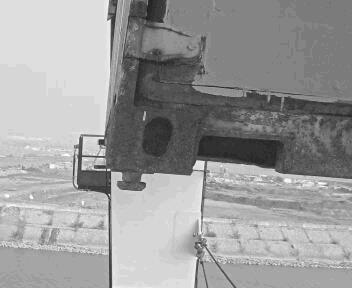twist_lock_1: (106, 166, 158, 197)
